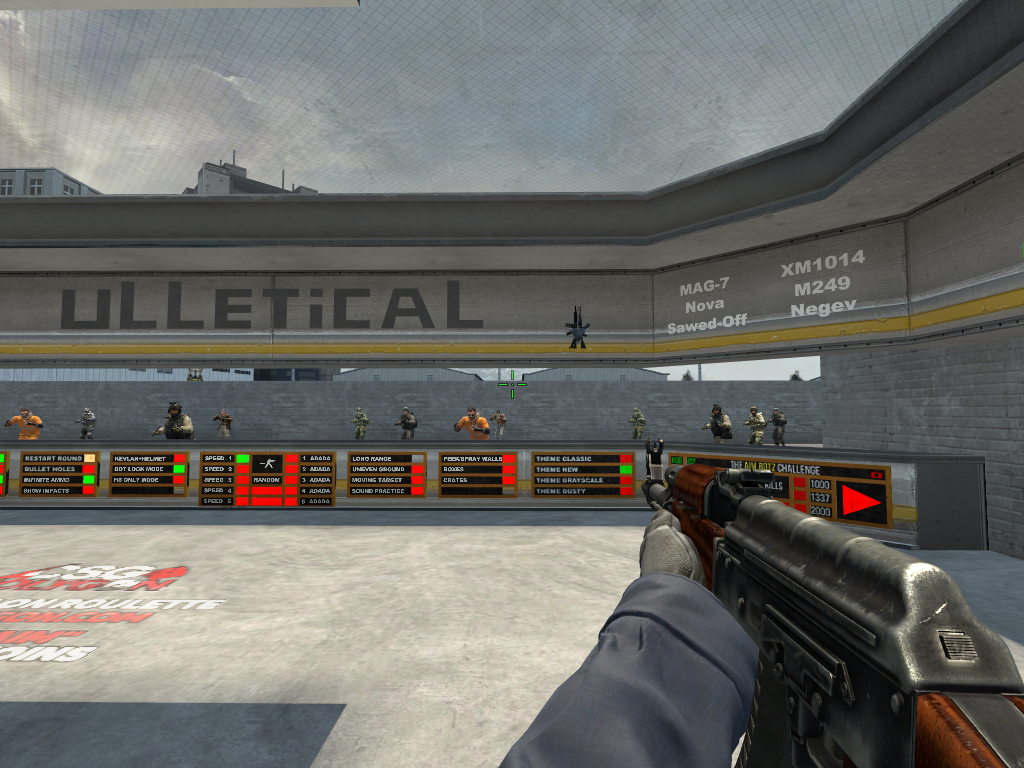ct head: (170, 404, 180, 417), (713, 406, 720, 416), (402, 407, 410, 415), (773, 408, 780, 416), (633, 408, 639, 416), (751, 407, 757, 415), (84, 408, 90, 416), (356, 408, 362, 415)
tr head: (467, 407, 476, 420), (20, 407, 29, 418), (496, 410, 501, 416), (221, 409, 225, 416)
